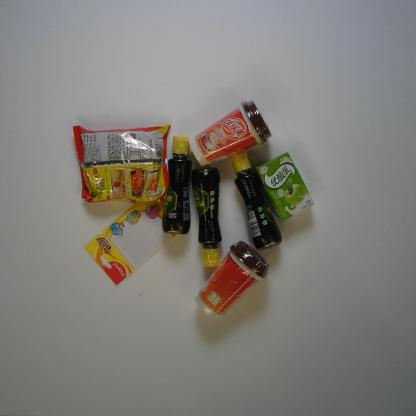Instant Drink: (194, 238, 272, 319), (188, 98, 272, 166)
Instant Noodles: (72, 124, 173, 206)
Milk: (254, 151, 315, 223)
Seasoner: (230, 148, 283, 252), (190, 166, 222, 269), (162, 134, 191, 236)
Stationery: (84, 198, 180, 288)
